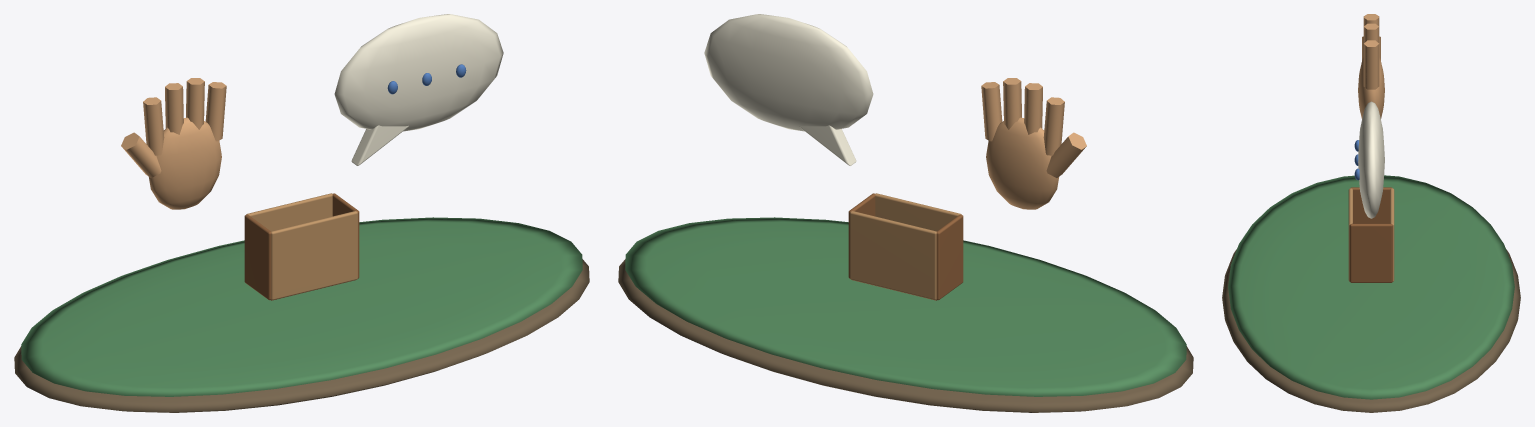
Rendered from complete-first-request-wanted-gift.glb.
3 renders of one model, left to right at view 1: azimuth 30°, elevation 25°; view 2: azimuth 150°, elevation 25°; view 3: azimuth 270°, elevation 25°, orthographic. The views are drawn at different scales.
Parts seen in each view (by area): view 1: complete-first-request-wanted-gift_surface_01, complete-first-request-wanted-gift_surface_03, complete-first-request-wanted-gift_surface_00, complete-first-request-wanted-gift_surface_02, complete-first-request-wanted-gift_surface_05, complete-first-request-wanted-gift_surface_06; view 2: complete-first-request-wanted-gift_surface_01, complete-first-request-wanted-gift_surface_03, complete-first-request-wanted-gift_surface_00, complete-first-request-wanted-gift_surface_02, complete-first-request-wanted-gift_surface_05, complete-first-request-wanted-gift_surface_06; view 3: complete-first-request-wanted-gift_surface_01, complete-first-request-wanted-gift_surface_00, complete-first-request-wanted-gift_surface_06, complete-first-request-wanted-gift_surface_03, complete-first-request-wanted-gift_surface_02, complete-first-request-wanted-gift_surface_05.
Boxes of the visible parts, box(x1,y1,x2,y2) form: complete-first-request-wanted-gift_surface_01: box(21, 217, 582, 396); complete-first-request-wanted-gift_surface_03: box(334, 14, 503, 165); complete-first-request-wanted-gift_surface_00: box(14, 259, 589, 412); complete-first-request-wanted-gift_surface_02: box(121, 78, 226, 209); complete-first-request-wanted-gift_surface_05: box(246, 193, 357, 300); complete-first-request-wanted-gift_surface_06: box(244, 193, 359, 300); complete-first-request-wanted-gift_surface_01: box(625, 217, 1186, 396); complete-first-request-wanted-gift_surface_03: box(704, 14, 873, 165); complete-first-request-wanted-gift_surface_00: box(618, 259, 1193, 412); complete-first-request-wanted-gift_surface_02: box(981, 78, 1086, 209); complete-first-request-wanted-gift_surface_05: box(850, 193, 961, 300); complete-first-request-wanted-gift_surface_06: box(848, 193, 963, 300); complete-first-request-wanted-gift_surface_01: box(1228, 175, 1514, 399); complete-first-request-wanted-gift_surface_00: box(1222, 249, 1520, 412); complete-first-request-wanted-gift_surface_06: box(1350, 187, 1392, 282); complete-first-request-wanted-gift_surface_03: box(1358, 101, 1384, 218); complete-first-request-wanted-gift_surface_02: box(1358, 14, 1384, 118); complete-first-request-wanted-gift_surface_05: box(1348, 188, 1394, 281).
Bounding box in the file's own units: 4.56 × 2.29 × 2.5.
